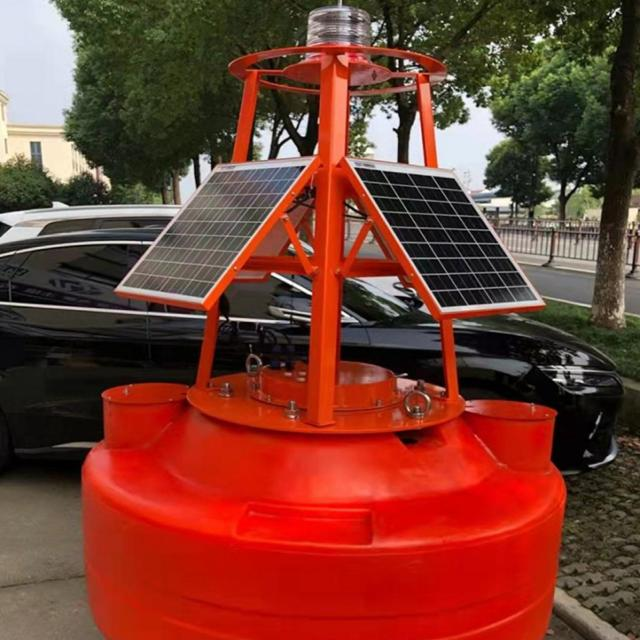buoy: (75, 0, 569, 640)
